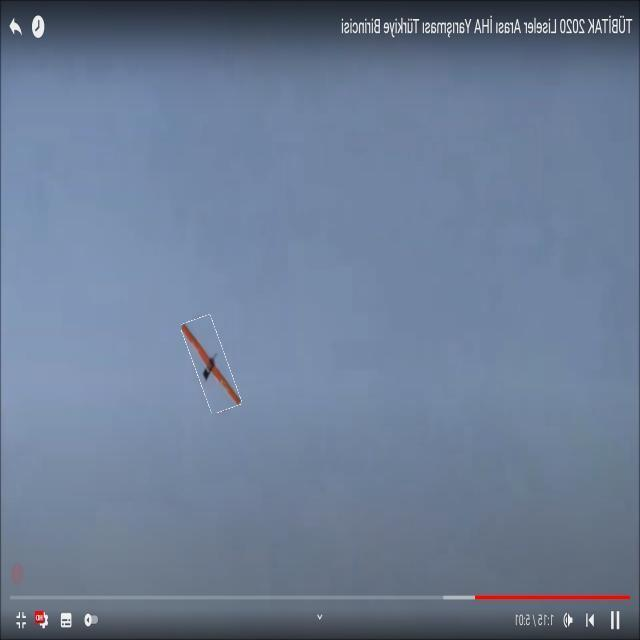UAV: (170, 312, 280, 429)
